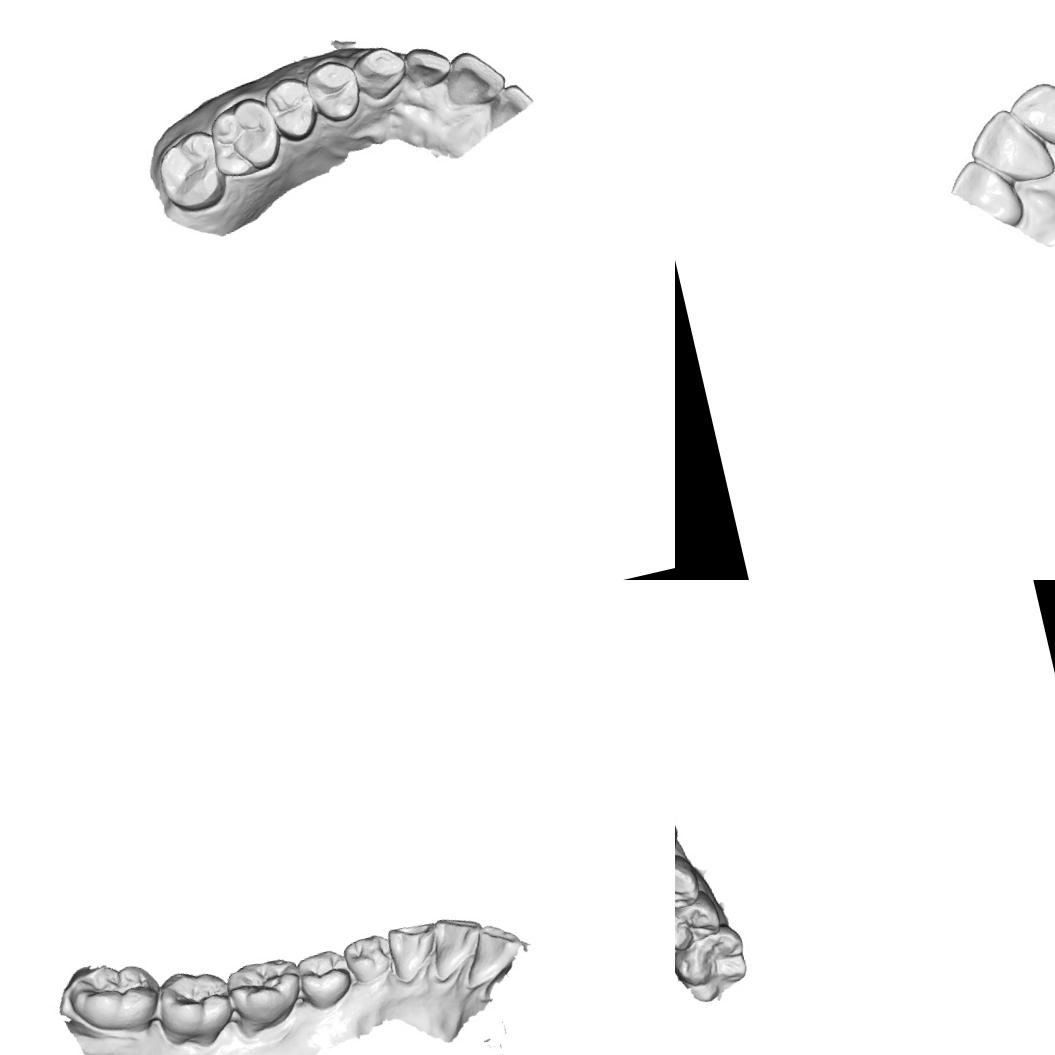canine: (380, 914, 446, 991), (348, 42, 412, 105)
incisor: (962, 100, 1055, 193), (945, 152, 1026, 240), (419, 908, 491, 986), (454, 916, 526, 990), (438, 43, 510, 115), (1006, 77, 1055, 155), (398, 40, 458, 98), (479, 78, 539, 134)
molar: (56, 945, 167, 1045), (153, 957, 241, 1055), (217, 950, 308, 1036), (149, 124, 230, 219), (203, 91, 287, 182), (675, 920, 755, 1009)
premolar: (290, 942, 356, 1014), (261, 70, 322, 147), (302, 54, 365, 128), (338, 928, 397, 989), (675, 886, 725, 956), (675, 850, 704, 918)
